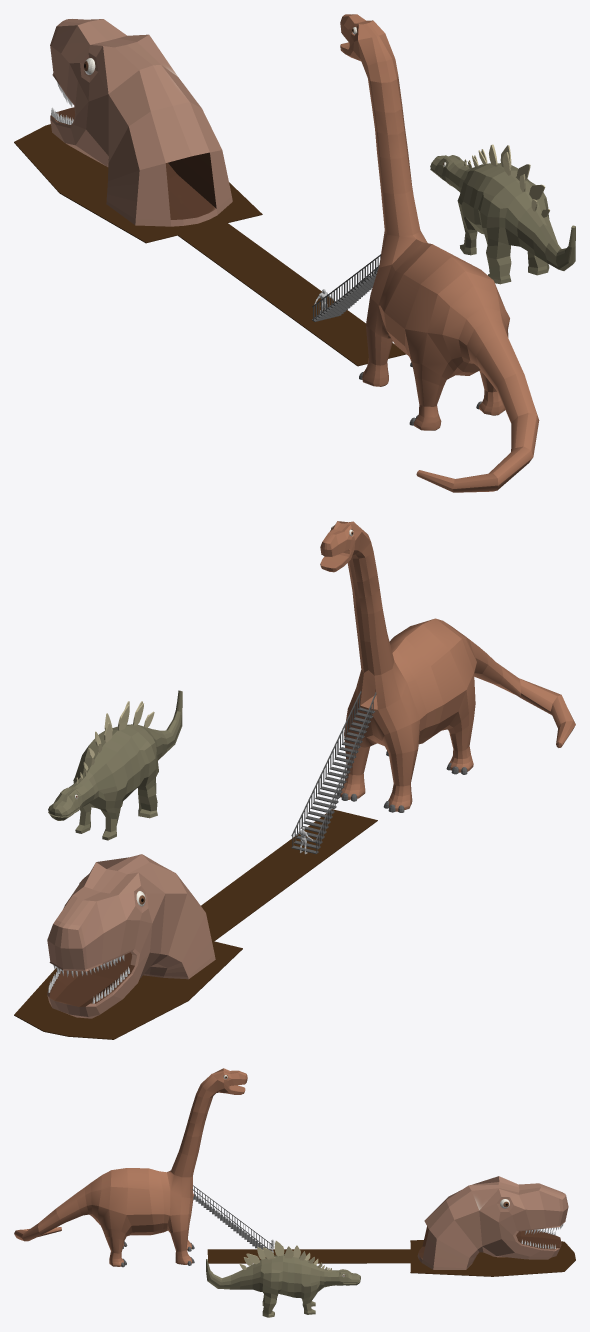
The model's file is dinoLod3.fbx.
3 views of the same model, one above another, from view 1: azimuth 30°, elevation 25°; view 2: azimuth 150°, elevation 25°; view 3: azimuth 270°, elevation 25° (orthographic). The views are drawn at different scales.
Visible parts, largest first — view 1: body_low, Cylinder.030, Cube.002, Cube, Cube.006, Cube.001; view 2: body_low, Cylinder.030, Cube.002, Cube, Cube.006, Cube.001; view 3: body_low, Cylinder.030, Cube.002, Cube, Cube.006, Cube.001.
Part boxes in pixels (bbox=[...]): body_low: bbox=[340, 14, 539, 492]; Cylinder.030: bbox=[50, 19, 232, 226]; Cube.002: bbox=[14, 124, 406, 366]; Cube: bbox=[430, 155, 575, 284]; Cube.006: bbox=[312, 254, 380, 321]; Cube.001: bbox=[464, 144, 549, 217]; body_low: bbox=[320, 521, 575, 811]; Cylinder.030: bbox=[47, 854, 215, 1018]; Cube.002: bbox=[14, 809, 377, 1039]; Cube: bbox=[48, 690, 182, 840]; Cube.006: bbox=[291, 691, 376, 853]; Cube.001: bbox=[76, 701, 154, 783]; body_low: bbox=[14, 1068, 247, 1266]; Cylinder.030: bbox=[417, 1176, 568, 1269]; Cube.002: bbox=[207, 1240, 575, 1276]; Cube: bbox=[206, 1254, 360, 1317]; Cube.006: bbox=[192, 1185, 270, 1250]; Cube.001: bbox=[239, 1240, 331, 1271].
Bounding box in the file's own units: 2346 × 2341 × 6374.
Materials: 7 (1 with a texture image).
